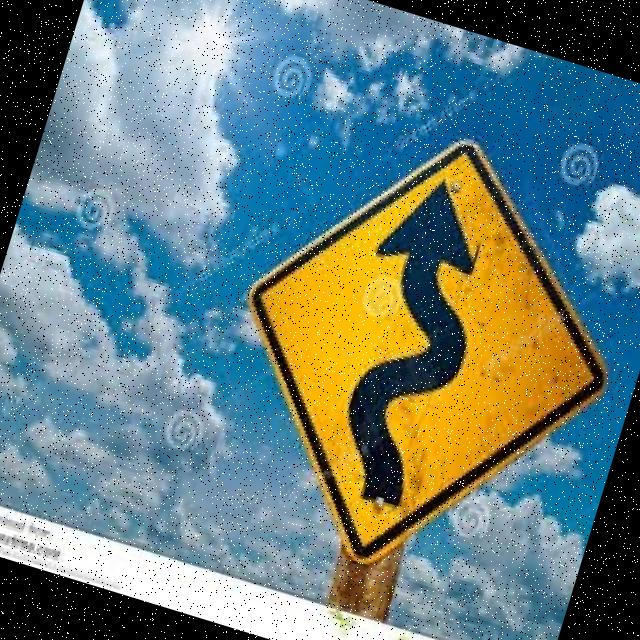left_sharp_curve: (161, 64, 640, 619)
